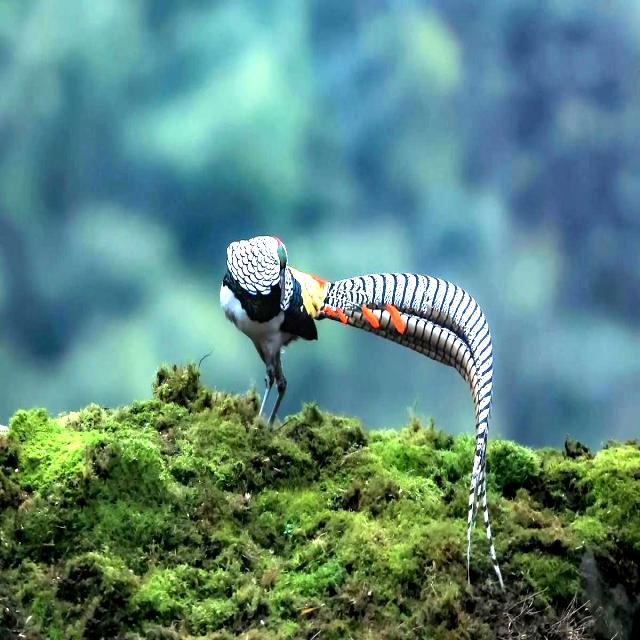Chrysolophus amherstiae: (314, 273, 492, 518)
